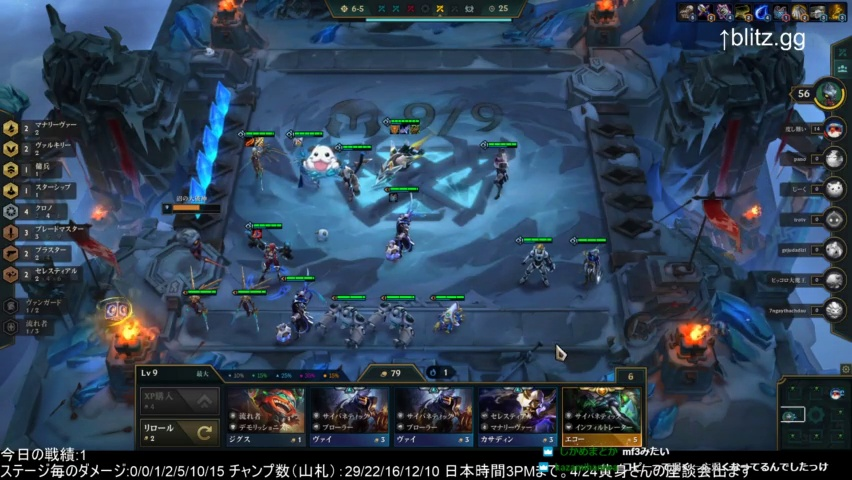aurelionsol*2: solari, ionicspark, warmog: (375, 120, 428, 189)
blitzcrank: (323, 291, 375, 352), (373, 292, 423, 352)
ezreal*2: (511, 230, 561, 294)
kayle: (177, 275, 224, 351), (226, 275, 270, 345)
lulu: (428, 292, 467, 350)
missfortune*2: deathcap: (241, 220, 300, 294)
shen*2: (478, 139, 520, 203)
thresh: (276, 272, 320, 348)
thresh: vest: (374, 187, 429, 270)
wukong*2: (334, 141, 373, 208)
xayah*2: (570, 232, 609, 294)
